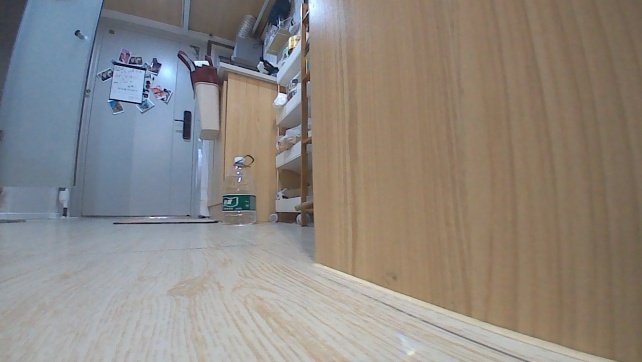door_anno: (79, 16, 207, 222)
